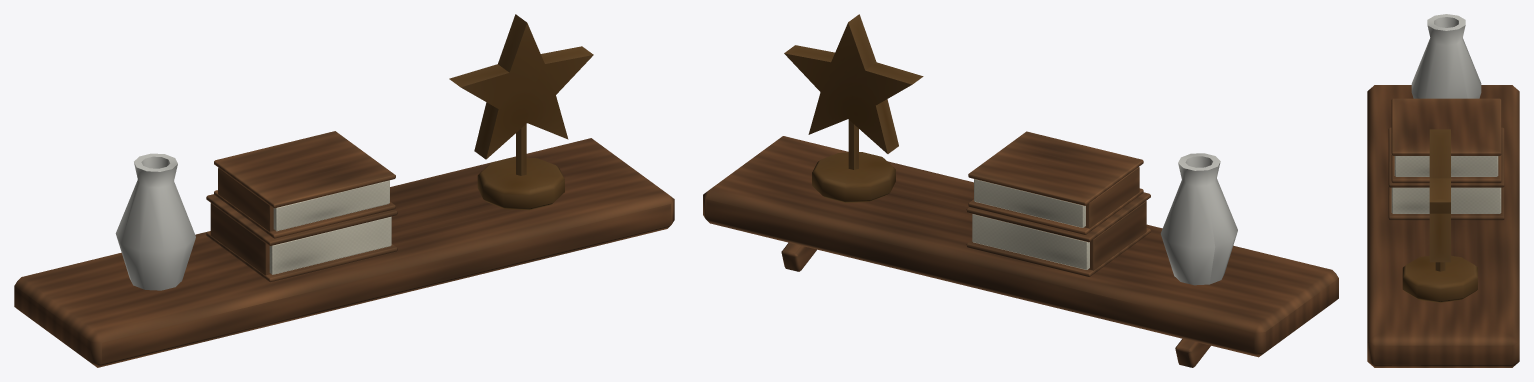
File: Furn_Wall_Shelf.fbx
3 views of the same model, side by side, from view 1: azimuth 30°, elevation 25°; view 2: azimuth 150°, elevation 25°; view 3: azimuth 270°, elevation 25° (orthographic). The views are drawn at different scales.
Parts seen in each view (by area): view 1: Furn_Wall_Shelf; view 2: Furn_Wall_Shelf; view 3: Furn_Wall_Shelf.
Boxes of the visible parts, x1,y1,x2,y2 form: Furn_Wall_Shelf: (14, 14, 674, 367); Furn_Wall_Shelf: (703, 14, 1338, 367); Furn_Wall_Shelf: (1367, 14, 1519, 367).
Bounding box in the file's own units: 1 × 0.4 × 0.25.
Materials: 4 (4 with a texture image).
